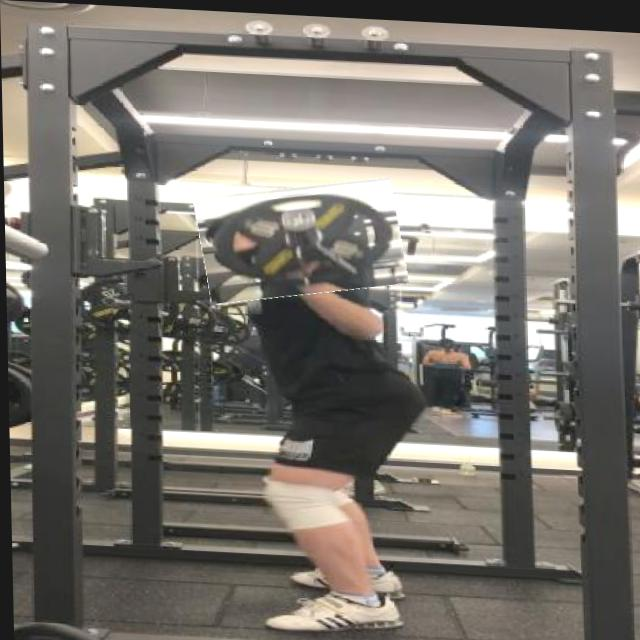barbell: (196, 174, 405, 303)
